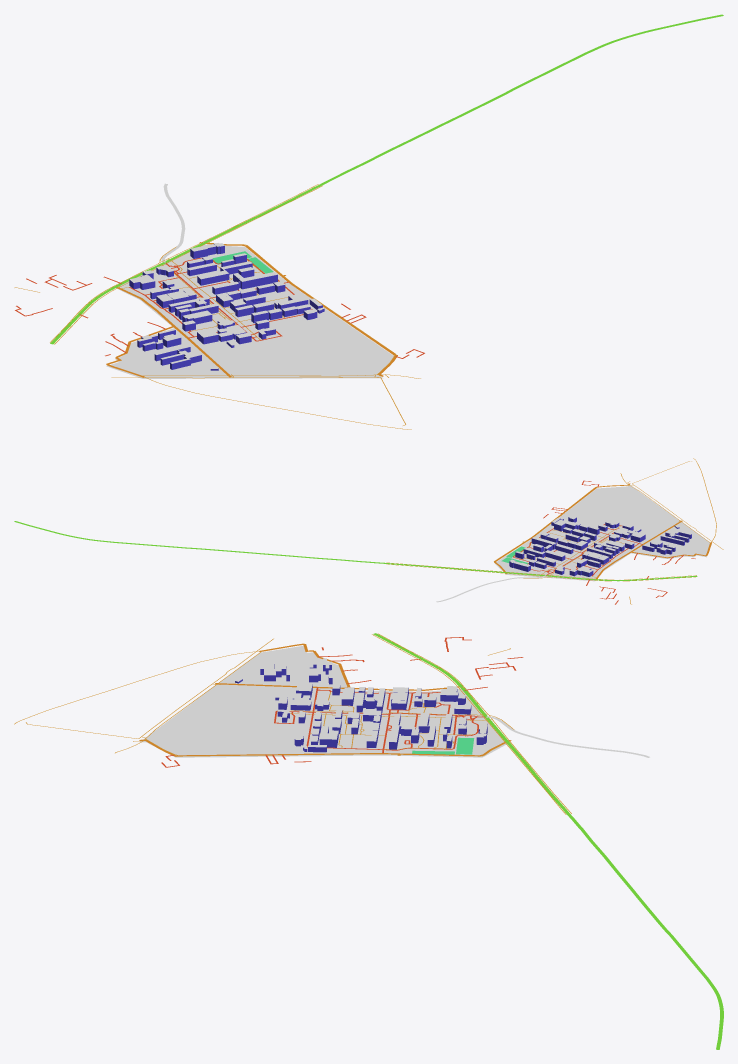
The model's file is saitama_v3.glb.
The picture shows the model from 3 angles, top to bottom: view 1: azimuth 30°, elevation 25°; view 2: azimuth 150°, elevation 25°; view 3: azimuth 270°, elevation 25°; orthographic projection. The views are drawn at different scales.
Visible parts, largest first — view 1: 平面, map_2.osm_buildings, map.osm_paths_footway, map.osm_roads_trunk, map.osm_roads_service, map.osm_roads_unclassified; view 2: 平面, map_2.osm_buildings, map.osm_paths_footway, map.osm_roads_trunk, map.osm_roads_service, map.osm_roads_unclassified; view 3: 平面, map_2.osm_buildings, map.osm_paths_footway, map.osm_roads_trunk, map.osm_roads_service, map.osm_roads_unclassified.
Part boxes in pixels (<box>): 平面: <box>106,244,393,378</box>; map_2.osm_buildings: <box>129,243,324,370</box>; map.osm_paths_footway: <box>14,184,420,429</box>; map.osm_roads_trunk: <box>50,14,723,344</box>; map.osm_roads_service: <box>15,258,424,358</box>; map.osm_roads_unclassified: <box>106,242,397,377</box>; 平面: <box>494,485,711,581</box>; map_2.osm_buildings: <box>509,516,691,576</box>; map.osm_paths_footway: <box>386,458,723,604</box>; map.osm_roads_trunk: <box>14,521,697,581</box>; map.osm_roads_service: <box>513,480,695,604</box>; map.osm_roads_unclassified: <box>494,483,711,579</box>; 平面: <box>139,645,506,757</box>; map_2.osm_buildings: <box>235,658,487,752</box>; map.osm_paths_footway: <box>14,633,571,814</box>; map.osm_roads_trunk: <box>373,633,723,1049</box>; map.osm_roads_service: <box>161,637,523,767</box>; map.osm_roads_unclassified: <box>139,643,511,756</box>.
Bounding box in the file's own units: 2315 × 26.22 × 1666.
